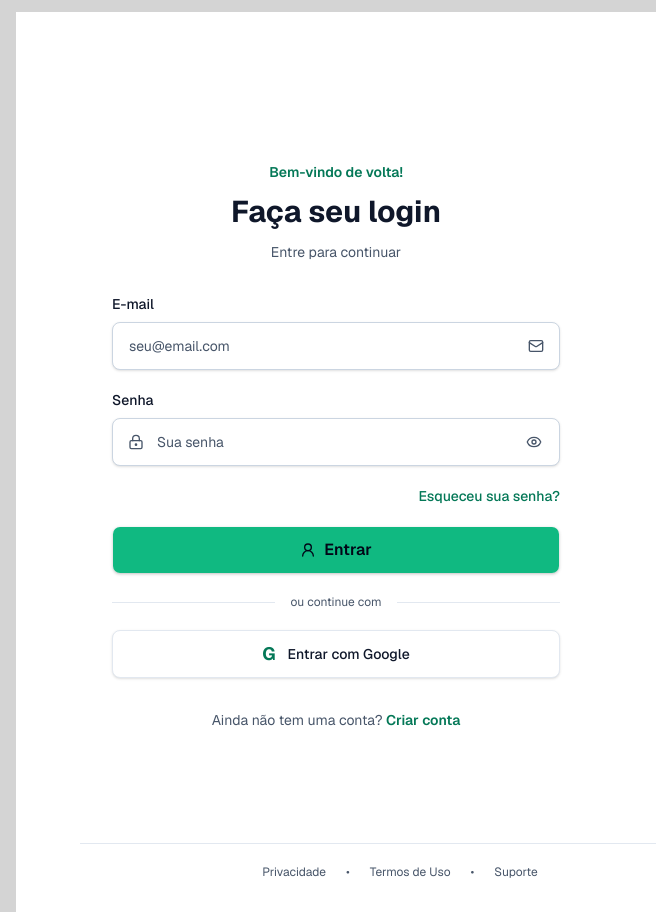
it: LoginForm › should validate fields before submitting credentials
Type "email-invalido" into the field labelled "E-mail" at [336, 346], box [112,322,560,370]
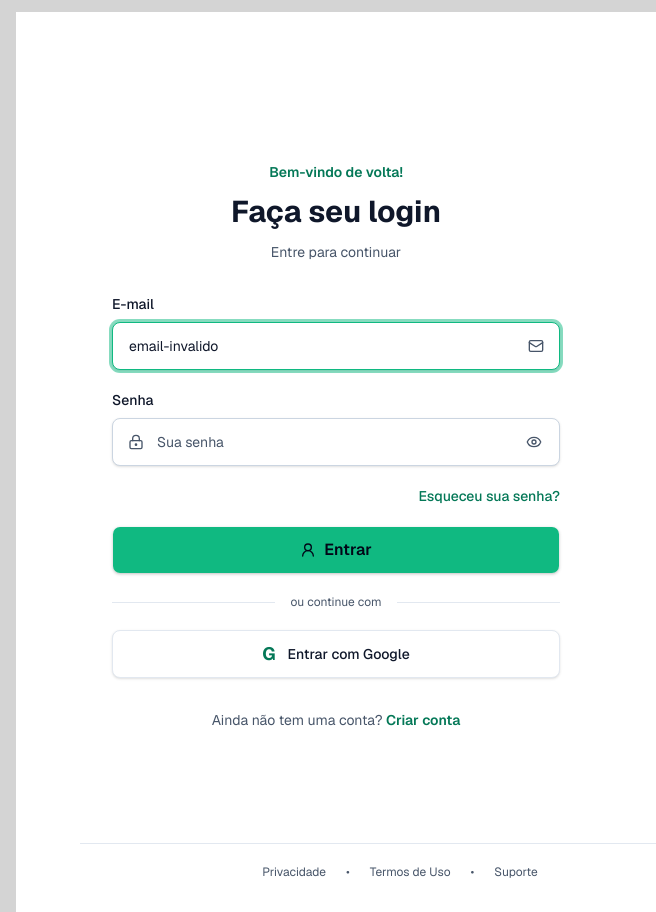
Type "123456" into the password field labelled "Senha" at [336, 442], box [112,418,560,466]
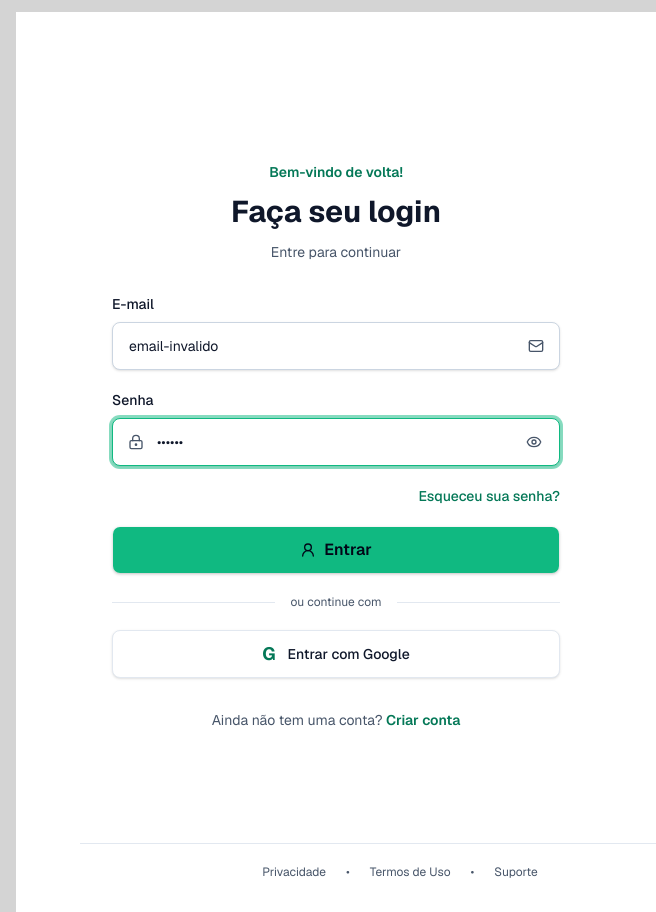
Click the button "Entrar" at [336, 550], box [112,526,560,574]
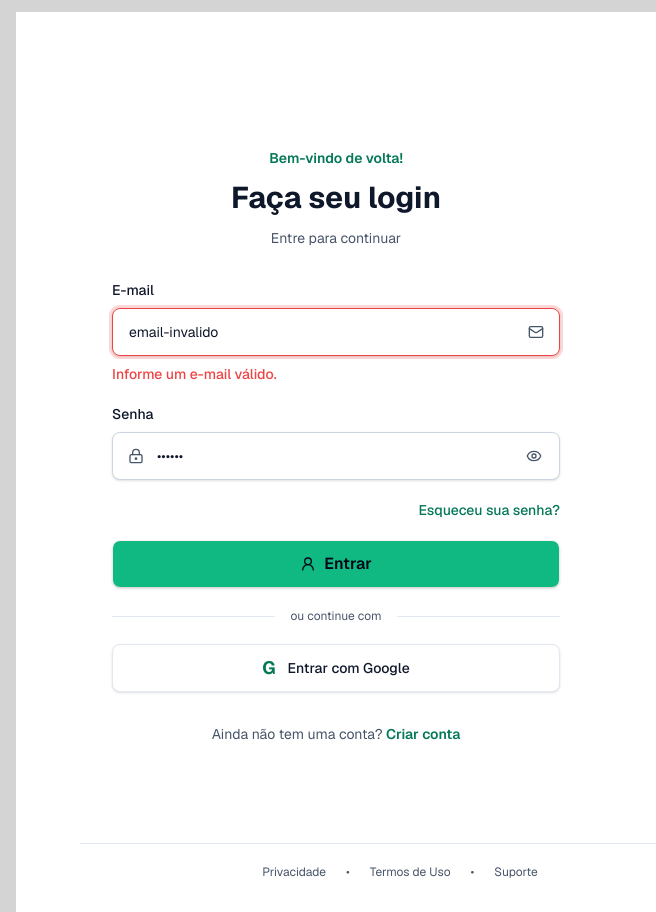
Check: the text "Informe um e-mail válido." is shown, box [112,365,277,383]
